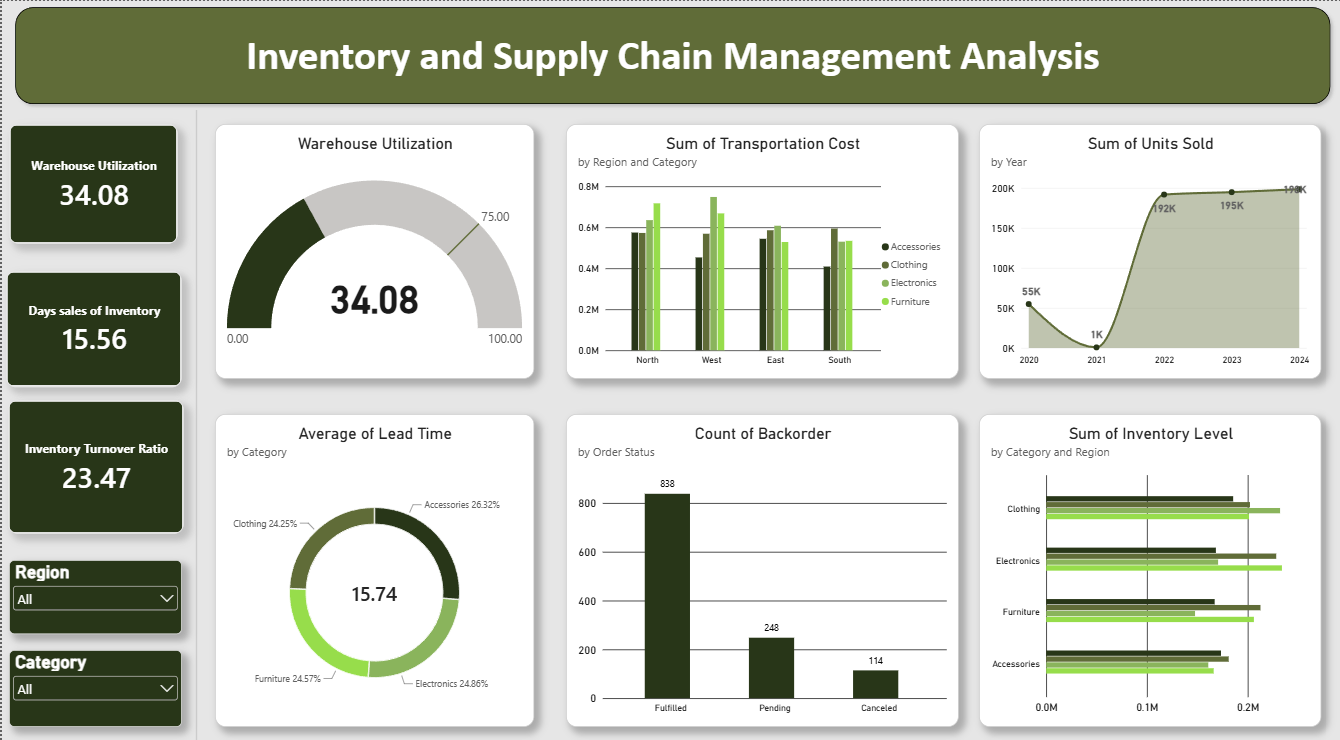

The page's visual inventory and layout, read from the dashboard file:
{"tool":"powerbi","page":{"name":"Page 1","canvas":[1920,1080],"ordinal":0},"visuals":[{"type":"shape","box":[10.2,0,1896.7,156.1],"z":0},{"type":"textbox","box":[322.9,41.4,1271.4,74.3],"z":1000},{"type":"shape","box":[97.1,155.7,361.4,924.3],"z":2000},{"type":"cardVisual","fields":{"Data":["Inventory and Supply Chain Dataset.Warehouse Utilization"]},"box":[10,175.7,241.4,171.4],"z":3000},{"type":"cardVisual","fields":{"Data":["Inventory and Supply Chain Dataset.Days sales of Inventory"]},"box":[5.7,385.7,251.4,165.7],"z":4000},{"type":"cardVisual","fields":{"Data":["Inventory and Supply Chain Dataset.Inventory Turnover Ratio"]},"box":[8.6,570,251.4,191.4],"z":5000},{"type":"slicer","fields":{"Values":["Inventory and Supply Chain Dataset.Region"]},"box":[10,798.6,247.1,105.7],"z":6000},{"type":"slicer","fields":{"Values":["Inventory and Supply Chain Dataset.Category"]},"box":[10,927.1,247.1,110],"z":7000},{"type":"gauge","fields":{"Y":["Inventory and Supply Chain Dataset.Warehouse Utilization"]},"box":[304.3,175.7,455.7,364.3],"z":8000},{"type":"clusteredColumnChart","fields":{"Category":["Inventory and Supply Chain Dataset.Region"],"Series":["Inventory and Supply Chain Dataset.Category"],"Y":["Sum(Inventory and Supply Chain Dataset.Transportation Cost)"]},"box":[805.7,175.7,561.4,364.3],"z":9000},{"type":"lineChart","fields":{"Category":["Inventory and Supply Chain Dataset.Date.Variation.Date Hierarchy.Year"],"Y":["Sum(Inventory and Supply Chain Dataset.Units Sold)"]},"box":[1395.7,175.7,488.6,364.3],"z":10000},{"type":"donutChart","fields":{"Category":["Inventory and Supply Chain Dataset.Category"],"Y":["Avg(Inventory and Supply Chain Dataset.Lead Time)"]},"box":[304.3,590,455.7,447.1],"z":11000},{"type":"columnChart","fields":{"Category":["Inventory and Supply Chain Dataset.Order Status"],"Y":["CountNonNull(Inventory and Supply Chain Dataset.Backorder)"]},"box":[806,590,561,447],"z":12000},{"type":"clusteredBarChart","fields":{"Category":["Inventory and Supply Chain Dataset.Category"],"Series":["Inventory and Supply Chain Dataset.Region"],"Y":["Sum(Inventory and Supply Chain Dataset.Inventory Level)"]},"box":[1396,590,489,447],"z":12001}]}

Visuals, with their boxes in screenshot pixels (x1, y1, x2, y2), scaled from the page's 1920x1080 canvas onto the 1340x740 screenshot:
shape: detection(7, 0, 1331, 107)
textbox: detection(225, 28, 1113, 79)
shape: detection(68, 107, 320, 739)
cardVisual - Inventory and Supply Chain Dataset.Warehouse Utilization: detection(7, 120, 175, 238)
cardVisual - Inventory and Supply Chain Dataset.Days sales of Inventory: detection(4, 264, 179, 378)
cardVisual - Inventory and Supply Chain Dataset.Inventory Turnover Ratio: detection(6, 391, 181, 522)
slicer - Inventory and Supply Chain Dataset.Region: detection(7, 547, 179, 620)
slicer - Inventory and Supply Chain Dataset.Category: detection(7, 635, 179, 711)
gauge - Inventory and Supply Chain Dataset.Warehouse Utilization: detection(212, 120, 530, 370)
clusteredColumnChart - Inventory and Supply Chain Dataset.Region x Inventory and Supply Chain Dataset.Category: detection(562, 120, 954, 370)
lineChart - Inventory and Supply Chain Dataset.Date.Variation.Date Hierarchy.Year x Sum(Inventory and Supply Chain Dataset.Units Sold): detection(974, 120, 1315, 370)
donutChart - Inventory and Supply Chain Dataset.Category x Avg(Inventory and Supply Chain Dataset.Lead Time): detection(212, 404, 530, 711)
columnChart - Inventory and Supply Chain Dataset.Order Status x CountNonNull(Inventory and Supply Chain Dataset.Backorder): detection(563, 404, 954, 711)
clusteredBarChart - Inventory and Supply Chain Dataset.Category x Inventory and Supply Chain Dataset.Region: detection(974, 404, 1316, 711)
